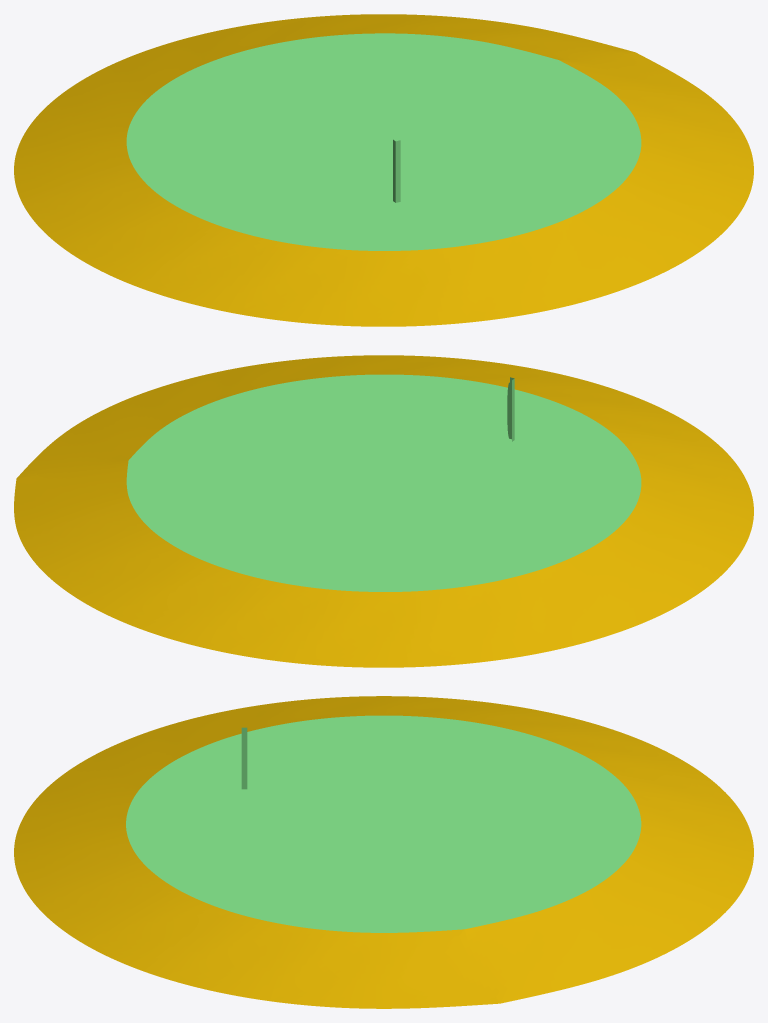
File: Table.glb
The picture shows the model from 3 angles, top to bottom: view 1: azimuth 30°, elevation 25°; view 2: azimuth 150°, elevation 25°; view 3: azimuth 270°, elevation 25°; orthographic projection.
Parts seen in each view (by area): view 1: Level.001; view 2: Level.001; view 3: Level.001.
Part boxes in pixels (x1,y1,x2,y2): Level.001: (14, 14, 753, 326); Level.001: (14, 355, 753, 667); Level.001: (14, 696, 753, 1008).
Size of what is drawn, in the model's own units: 16.32 by 3.27 by 16.32.
2 materials, 2 textured.
